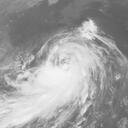cyclone: (30, 25, 103, 102)
